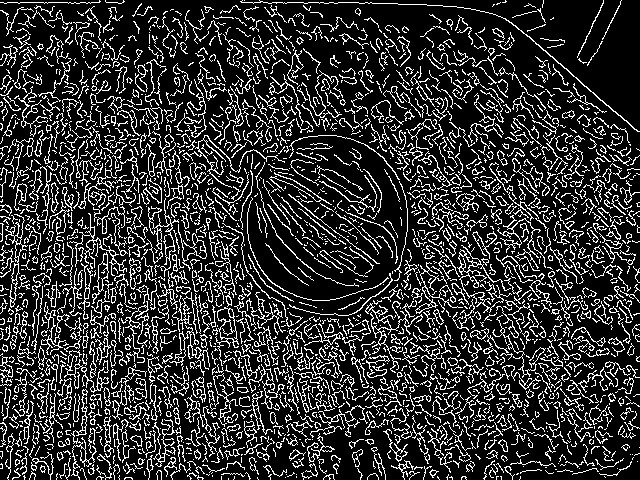onion: (216, 125, 425, 323)
